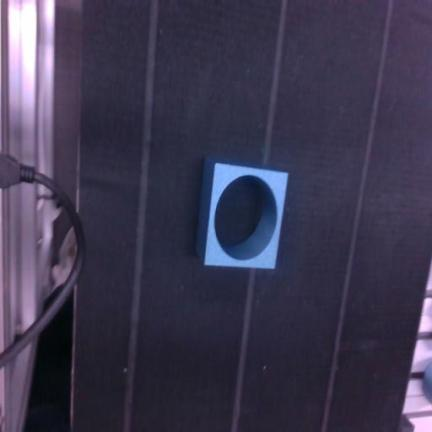hole: (197, 159, 288, 268)
